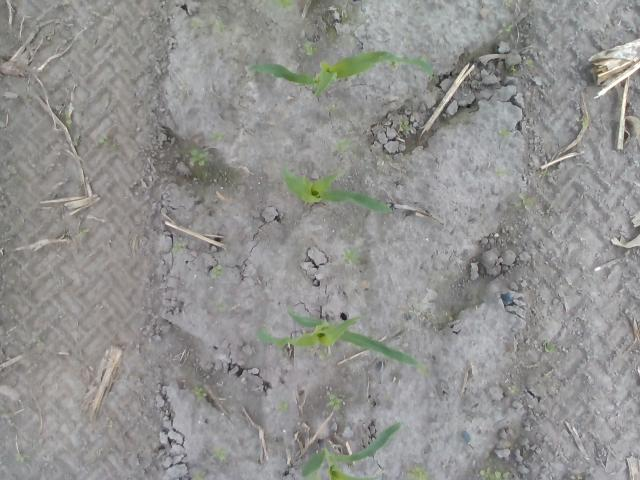Maize: (256, 306, 422, 368), (246, 50, 434, 98), (301, 421, 406, 480), (281, 164, 394, 214)
Weeds: (477, 466, 512, 478), (341, 247, 360, 267), (189, 148, 209, 166), (331, 140, 351, 154), (327, 393, 343, 410), (519, 192, 534, 210), (96, 137, 115, 151), (406, 466, 428, 478), (193, 386, 208, 403), (173, 240, 187, 253), (498, 22, 512, 35), (212, 21, 225, 34), (75, 228, 89, 240), (212, 448, 224, 462), (273, 0, 293, 8), (306, 42, 316, 57), (316, 349, 330, 359), (544, 342, 558, 352), (211, 266, 223, 277), (64, 118, 74, 131), (398, 122, 411, 132), (190, 18, 204, 27), (212, 130, 224, 140), (279, 401, 289, 412), (524, 57, 534, 68), (507, 386, 518, 396), (212, 304, 224, 313), (15, 454, 28, 462), (499, 130, 511, 138), (502, 0, 512, 9), (584, 117, 590, 131), (74, 138, 80, 148), (511, 64, 517, 74), (327, 105, 337, 110), (498, 169, 507, 174)
